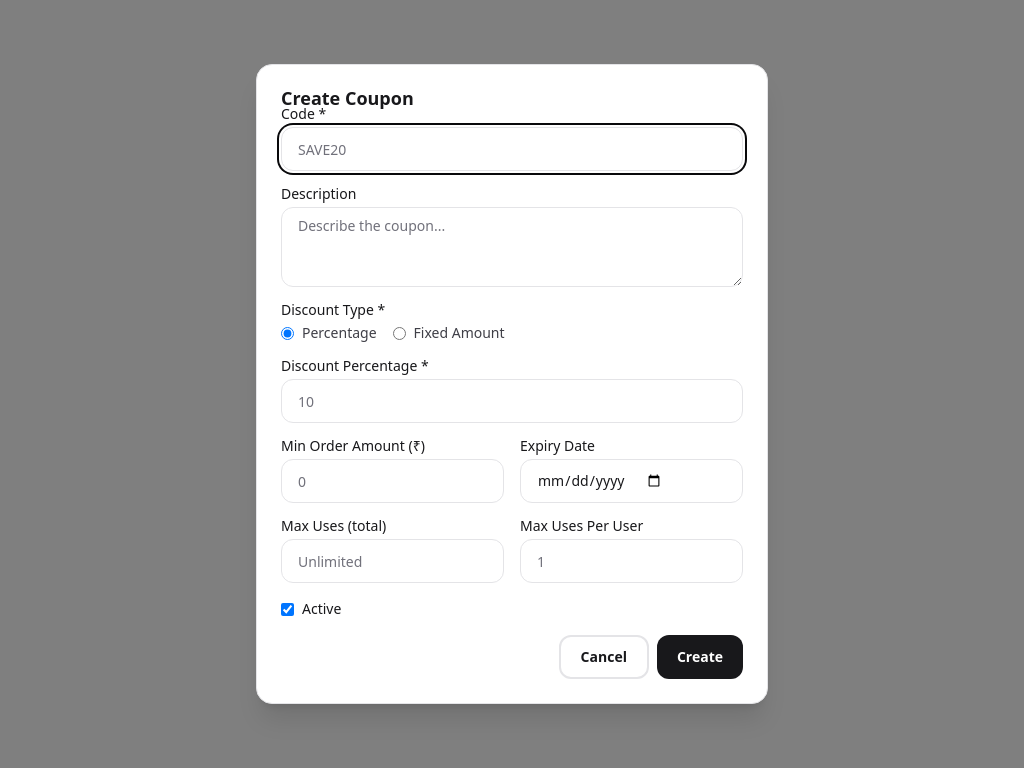
it: CouponModal › shows a validation error when neither percentage nor fixed discount is provided
Type "NEWCODE" into the field labelled "Code *" at (512, 149), box x1=281 y1=127 x2=743 y2=171
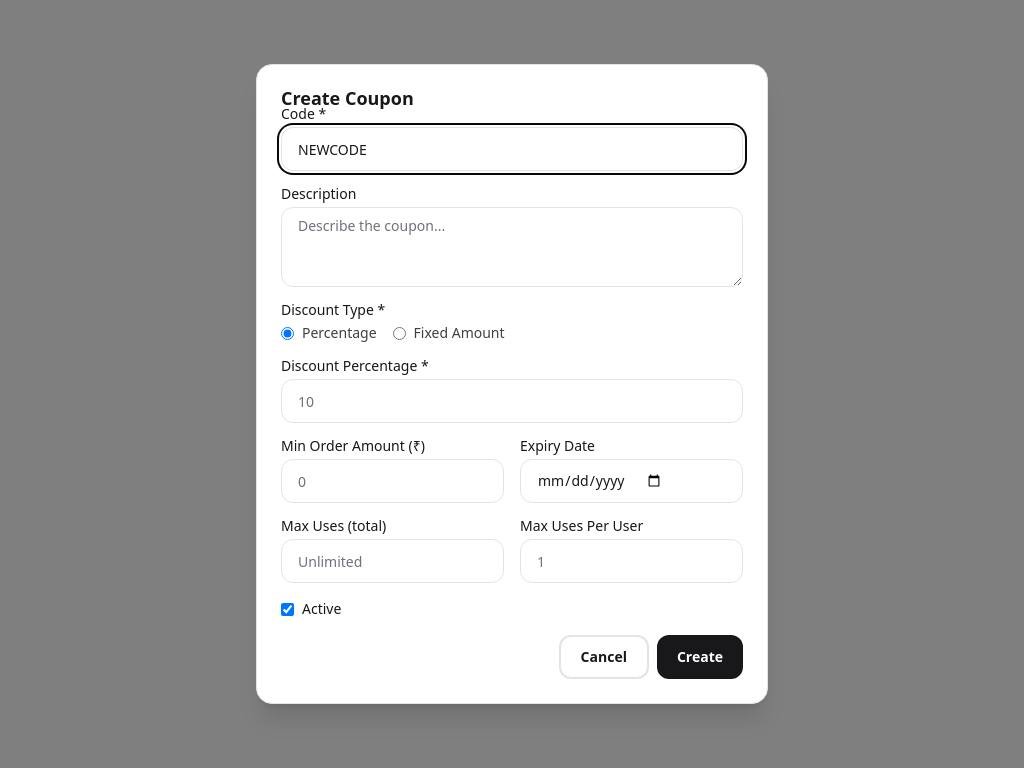
Click the button "Create" at (700, 657), box x1=657 y1=635 x2=743 y2=679
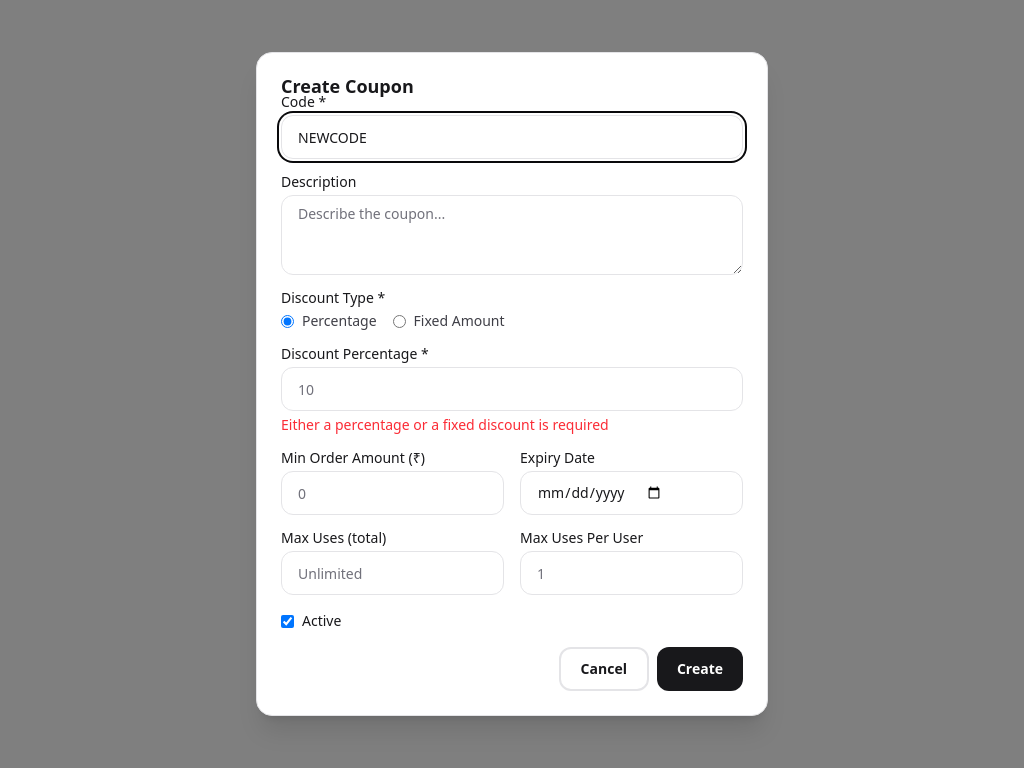
Expected: the text "Either a percentage or a fixed discount is required" is shown, x1=281 y1=415 x2=609 y2=434
